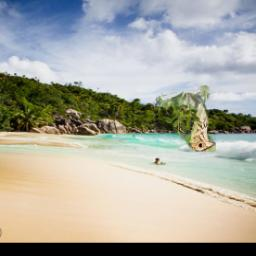Sparrow: (157, 85, 215, 152)
